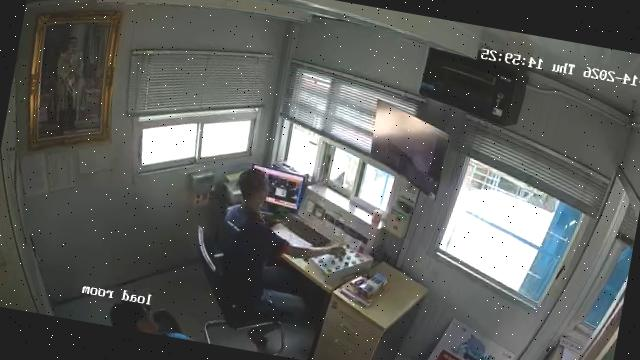Head: (110, 300, 165, 334), (243, 167, 275, 206)
People: (218, 170, 345, 318), (109, 302, 189, 339)
